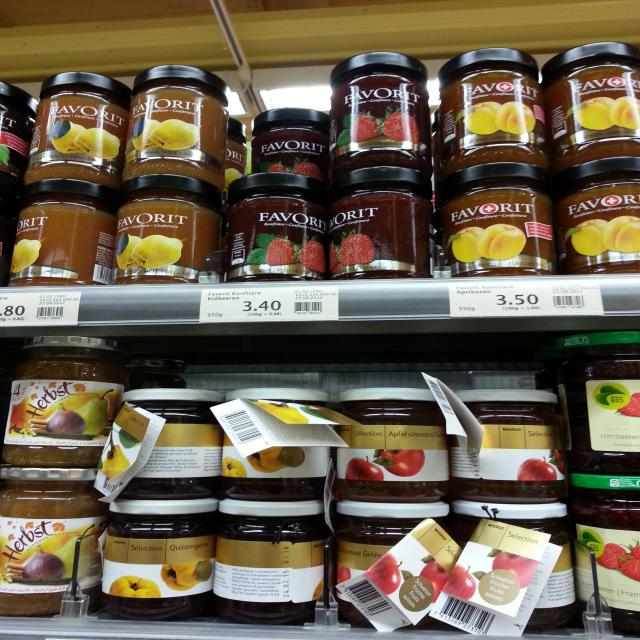Spreads: (449, 500, 582, 632), (0, 329, 125, 466), (331, 493, 449, 632), (433, 44, 554, 178), (0, 466, 104, 621), (91, 496, 219, 618), (216, 496, 329, 624), (332, 385, 452, 504), (437, 160, 556, 279), (107, 171, 225, 291), (448, 388, 570, 503), (101, 387, 224, 499), (3, 173, 116, 289), (21, 65, 126, 186), (537, 39, 640, 162), (218, 172, 332, 283), (326, 49, 429, 171), (221, 390, 333, 499), (127, 61, 224, 186), (554, 331, 640, 471), (568, 472, 640, 632), (334, 162, 431, 280), (556, 153, 640, 277), (255, 108, 334, 183)
